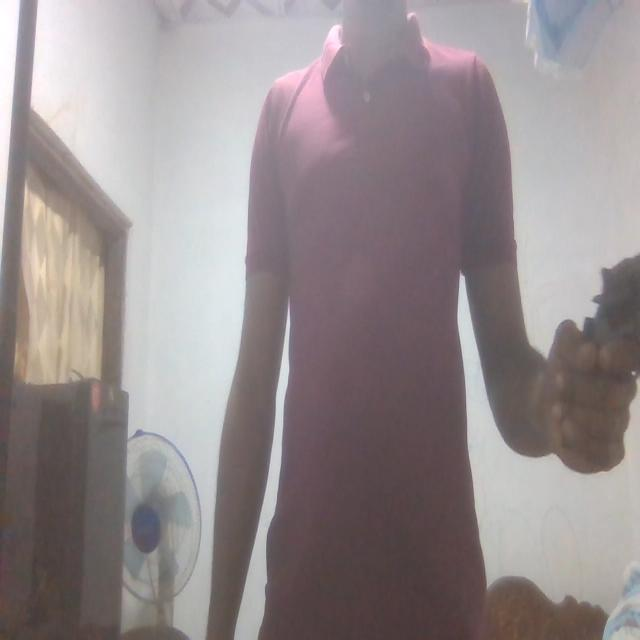Gun_Holder: (550, 230, 640, 470)
Person: (209, 0, 640, 640)
